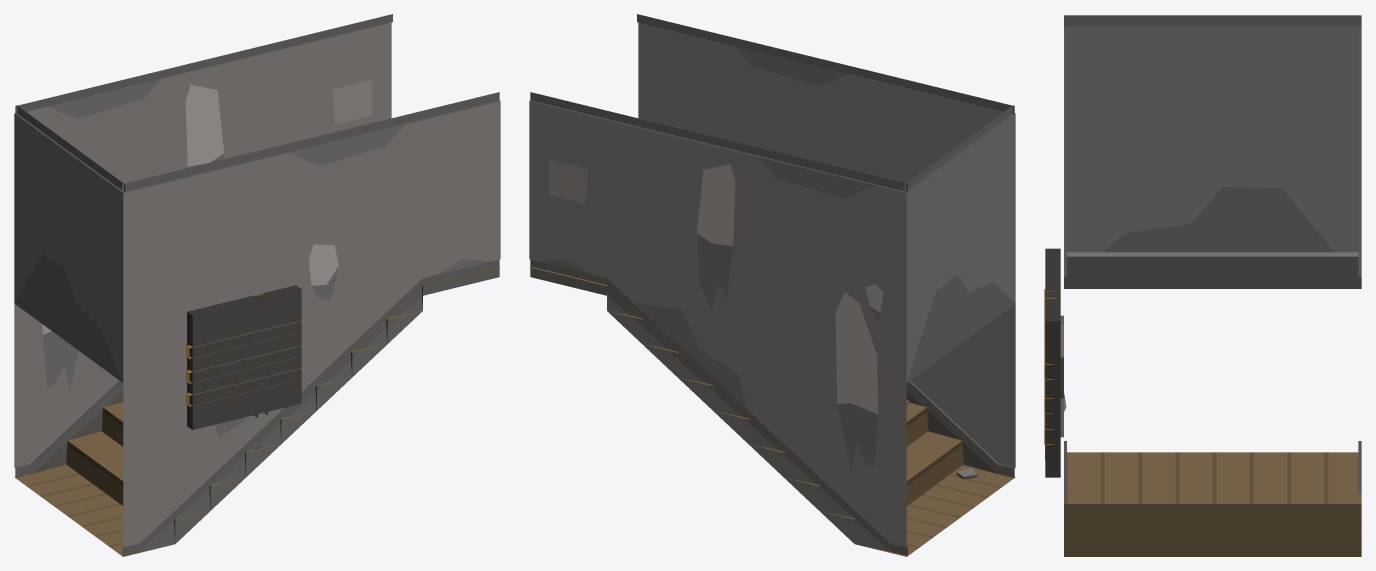
Rendered from AI_Env_Stairs_Grey.fbx.
3 views of the same model, side by side, from view 1: azimuth 30°, elevation 25°; view 2: azimuth 150°, elevation 25°; view 3: azimuth 270°, elevation 25° (orthographic). The views are drawn at different scales.
Parts seen in each view (by area): view 1: AI_Env_Stairs_Grey; view 2: AI_Env_Stairs_Grey; view 3: AI_Env_Stairs_Grey.
Boxes of the visible parts, box(x1,y1,x2,y2) form: AI_Env_Stairs_Grey: box(14, 14, 500, 556); AI_Env_Stairs_Grey: box(529, 14, 1015, 556); AI_Env_Stairs_Grey: box(1044, 15, 1361, 556).
Bounding box in the file's own units: 10 × 9.46 × 5.33.
